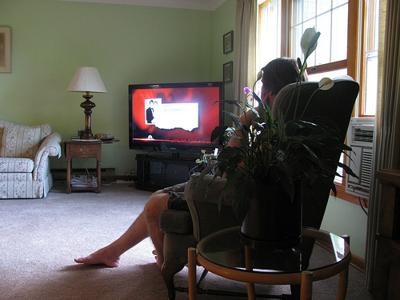person: (74, 58, 310, 274)
